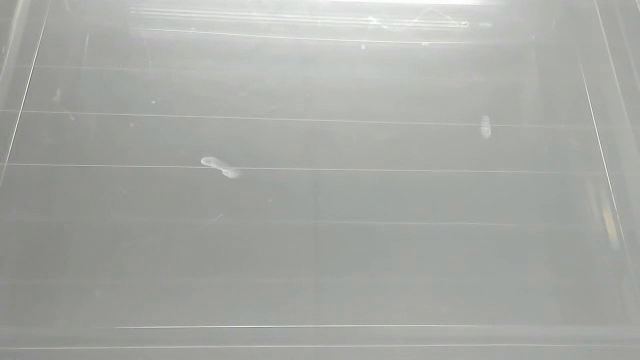alpha: (199, 155, 246, 180), (474, 111, 499, 144)
